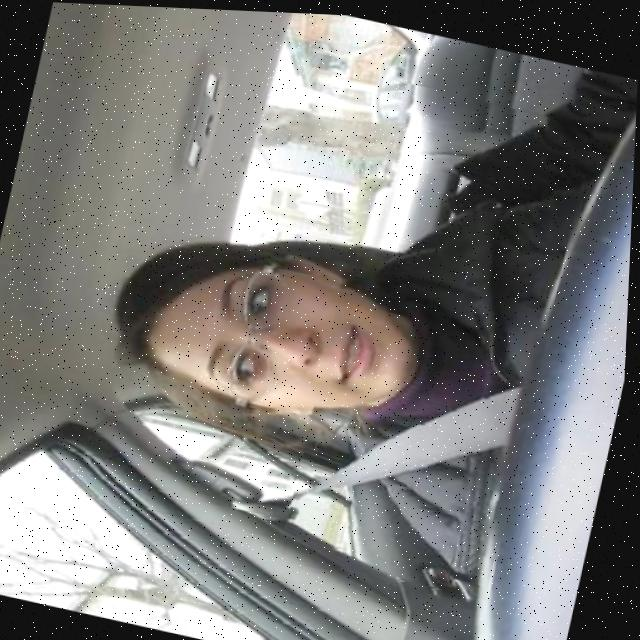seatbelt: (283, 73, 594, 598)
